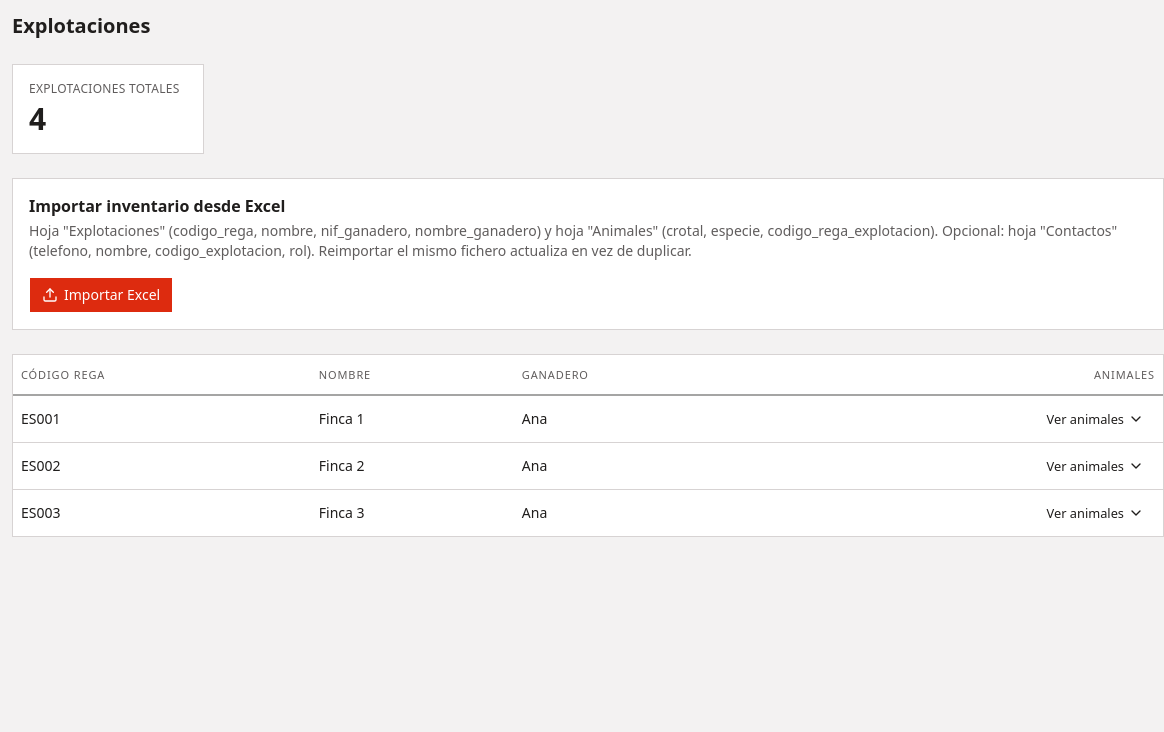
Scenario: ExplotacionesPage: 'Ver animales' por fila (H1-A) › no pide animales hasta desplegar, y al hacerlo pide solo los de esa explotación, una vez
Expected: the text "ES002" is shown, [13,442,311,490]
Step 1. Click the button with aria-label "Ver animales de ES002" → click(1095, 466), box [1036,451,1155,481]
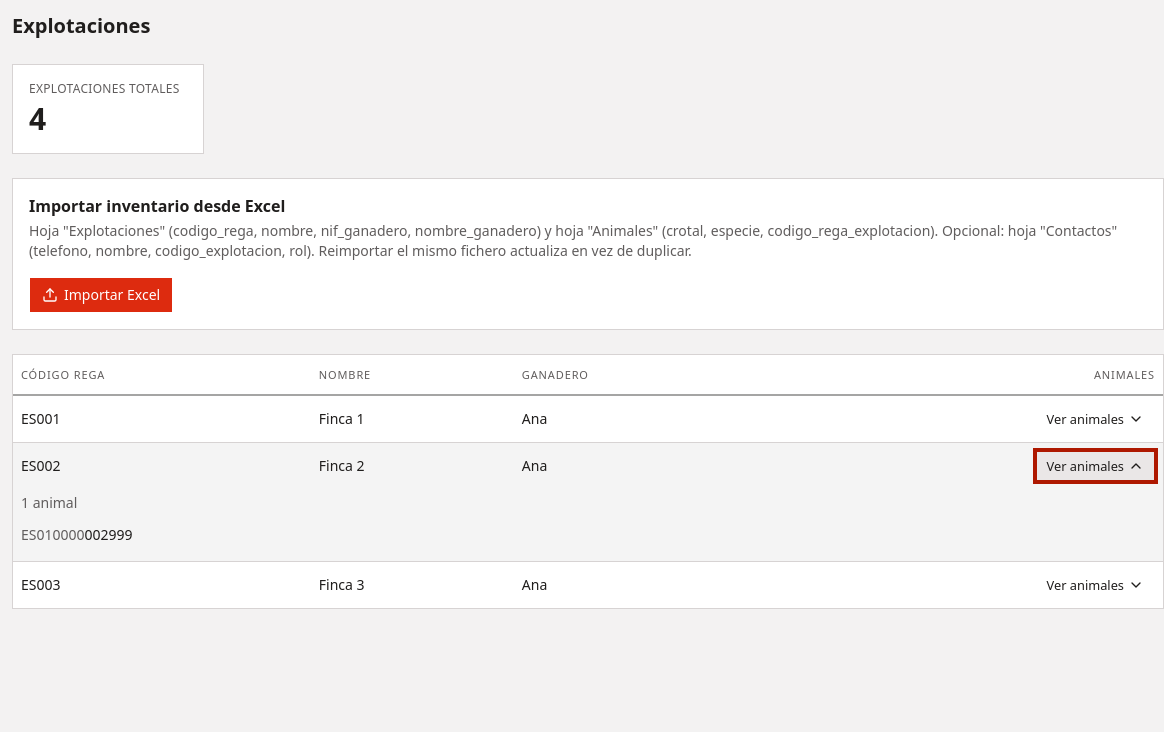
Expected: the list named "Crotales" is shown, [21,525,133,544]
